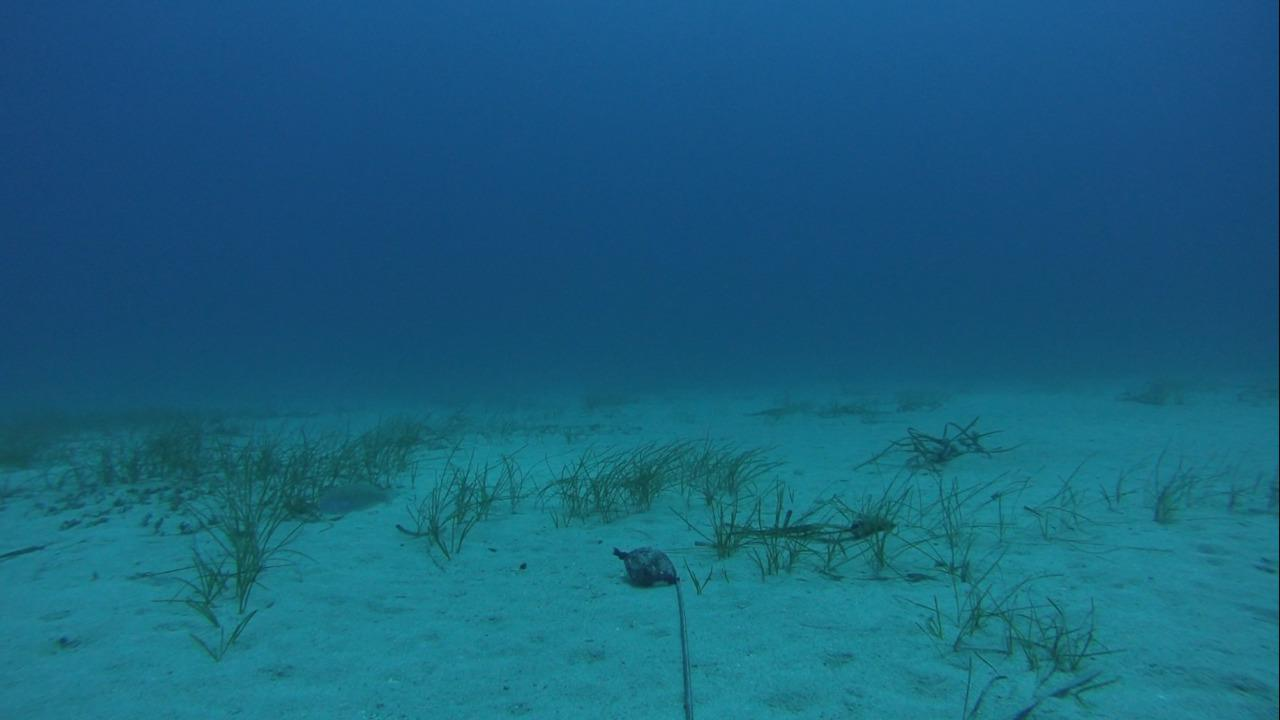raor: (310, 475, 391, 512)
